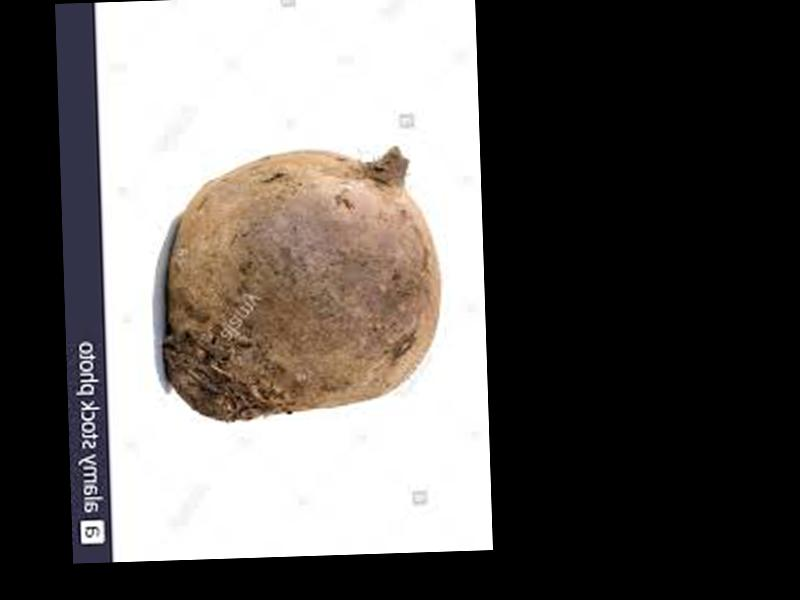Beet: (158, 144, 444, 421)
